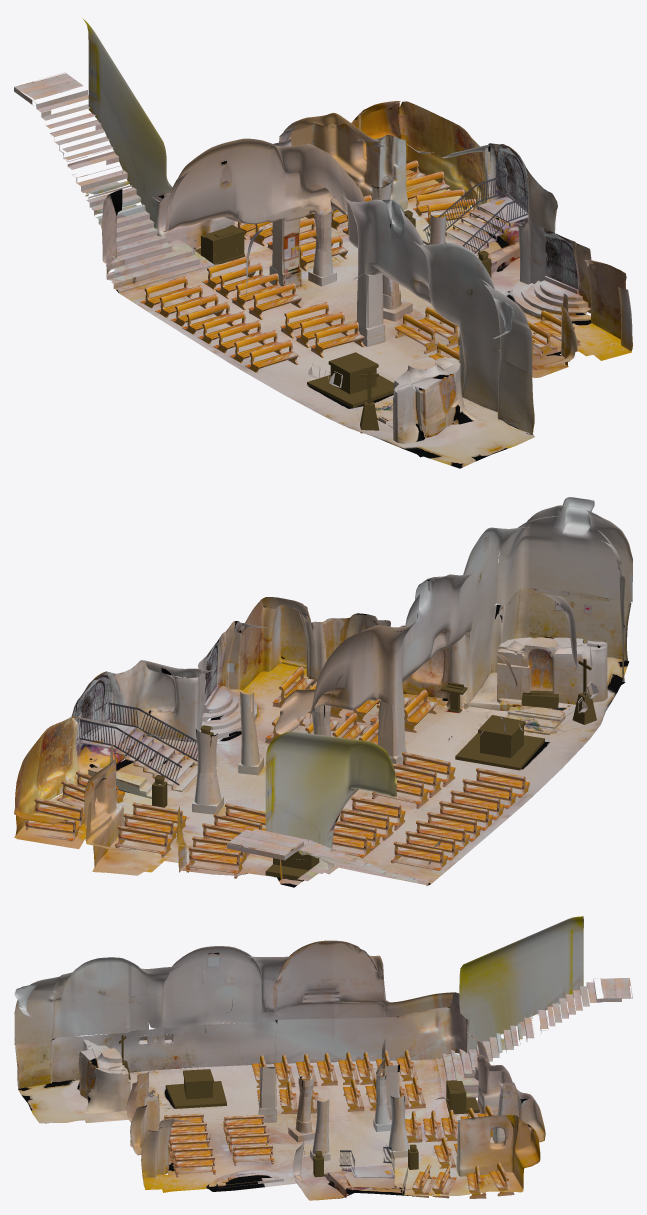
The model's file is SMarzano_3ds.glb.
3 renders of one model, top to bottom at view 1: azimuth 30°, elevation 25°; view 2: azimuth 150°, elevation 25°; view 3: azimuth 270°, elevation 25°, orthographic. The views are drawn at different scales.
Parts seen in each view (by area): view 1: intradosso_chiesa, paretiChiesa, pavimentazione_01, scale_gradini, colonne, altare, oggetti, ringhiere1, vari, seduta_Chiesa_def013, seduta_Chiesa_def, seduta_Chiesa_def028 (+9 smaller); view 2: intradosso_chiesa, paretiChiesa, pavimentazione_01, scale_gradini, altare, oggetti, colonne, ringhiere1, vari, seduta_Chiesa_def022, seduta_Chiesa_def019, seduta_Chiesa_def004 (+21 smaller); view 3: intradosso_chiesa, paretiChiesa, pavimentazione_01, scale_gradini, colonne, oggetti, altare, vari, seduta_Chiesa_def030, seduta_Chiesa_def032, seduta_Chiesa_def029, seduta_Chiesa_def (+14 smaller).
Part boxes in pixels (left/top/right/bottom): intradosso_chiesa: left=83, top=19, right=624, bottom=375; paretiChiesa: left=101, top=101, right=632, bottom=435; pavimentazione_01: left=116, top=169, right=631, bottom=468; scale_gradini: left=14, top=72, right=590, bottom=427; colonne: left=269, top=178, right=446, bottom=346; altare: left=393, top=356, right=483, bottom=443; oggetti: left=195, top=210, right=491, bottom=433; ringhiere1: left=423, top=174, right=528, bottom=253; vari: left=308, top=218, right=519, bottom=387; seduta_Chiesa_def013: left=310, top=322, right=364, bottom=357; seduta_Chiesa_def: left=248, top=282, right=301, bottom=319; seduta_Chiesa_def028: left=394, top=313, right=438, bottom=353; intradosso_chiesa: left=71, top=497, right=632, bottom=858; paretiChiesa: left=14, top=588, right=631, bottom=880; pavimentazione_01: left=14, top=657, right=629, bottom=887; scale_gradini: left=79, top=685, right=571, bottom=885; altare: left=497, top=636, right=607, bottom=711; oggetti: left=152, top=658, right=596, bottom=881; colonne: left=192, top=692, right=406, bottom=814; ringhiere1: left=79, top=702, right=197, bottom=785; vari: left=88, top=681, right=599, bottom=798; seduta_Chiesa_def022: left=114, top=825, right=171, bottom=857; seduta_Chiesa_def019: left=186, top=847, right=242, bottom=878; seduta_Chiesa_def004: left=390, top=841, right=447, bottom=870; intradosso_chiesa: left=14, top=916, right=583, bottom=1134; paretiChiesa: left=15, top=992, right=545, bottom=1190; pavimentazione_01: left=18, top=1059, right=537, bottom=1200; scale_gradini: left=130, top=978, right=632, bottom=1188; colonne: left=258, top=1063, right=409, bottom=1160; oggetti: left=119, top=1034, right=479, bottom=1177; altare: left=77, top=1039, right=130, bottom=1114; vari: left=138, top=1034, right=407, bottom=1197; seduta_Chiesa_def030: left=232, top=1144, right=274, bottom=1165; seduta_Chiesa_def032: left=174, top=1156, right=216, bottom=1177; seduta_Chiesa_def029: left=228, top=1133, right=270, bottom=1154; seduta_Chiesa_def: left=343, top=1078, right=364, bottom=1111.
Size of the model in its own units: 16.23 by 8.59 by 29.58.
Materials: 8 (8 with a texture image).
